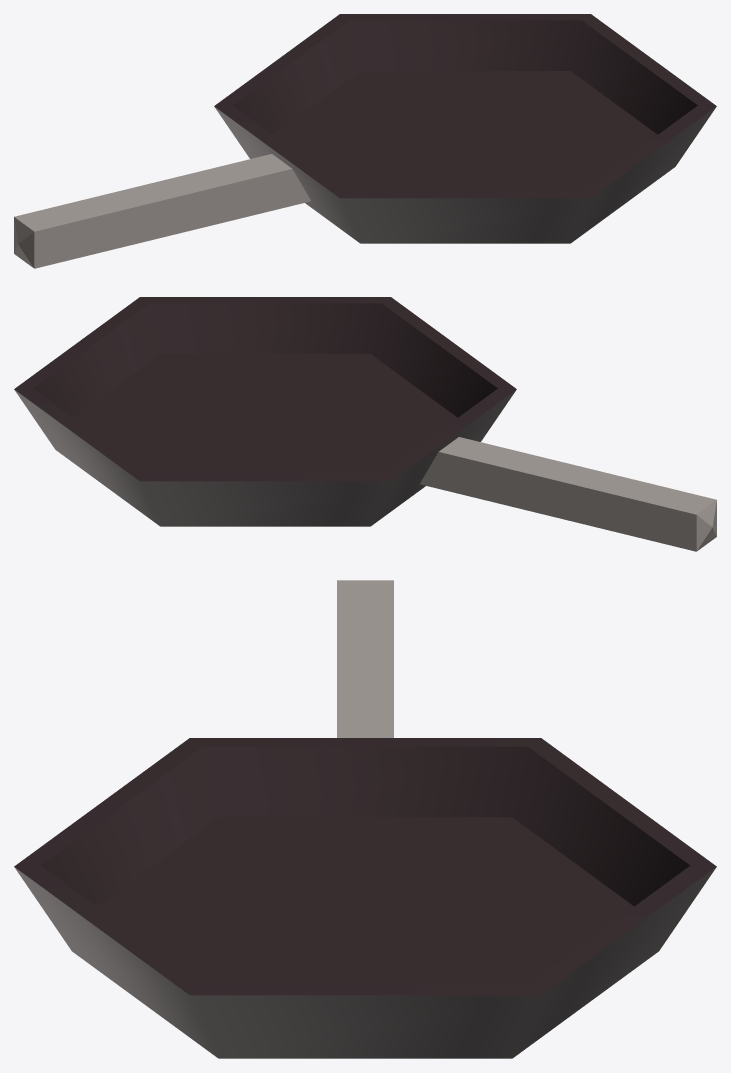
Rendered from pan2.fbx.
3 views of the same model, one above another, from view 1: azimuth 30°, elevation 25°; view 2: azimuth 150°, elevation 25°; view 3: azimuth 270°, elevation 25° (orthographic). The views are drawn at different scales.
Visible parts, largest first — view 1: pan; view 2: pan; view 3: pan.
Part boxes in pixels (bbox=[...]): pan: bbox=[14, 14, 716, 268]; pan: bbox=[14, 297, 716, 551]; pan: bbox=[14, 580, 716, 1058].
Size of the model in its own units: 61.48 by 89.75 by 8.27.
